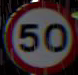Speed limit: (4, 1, 76, 72)
